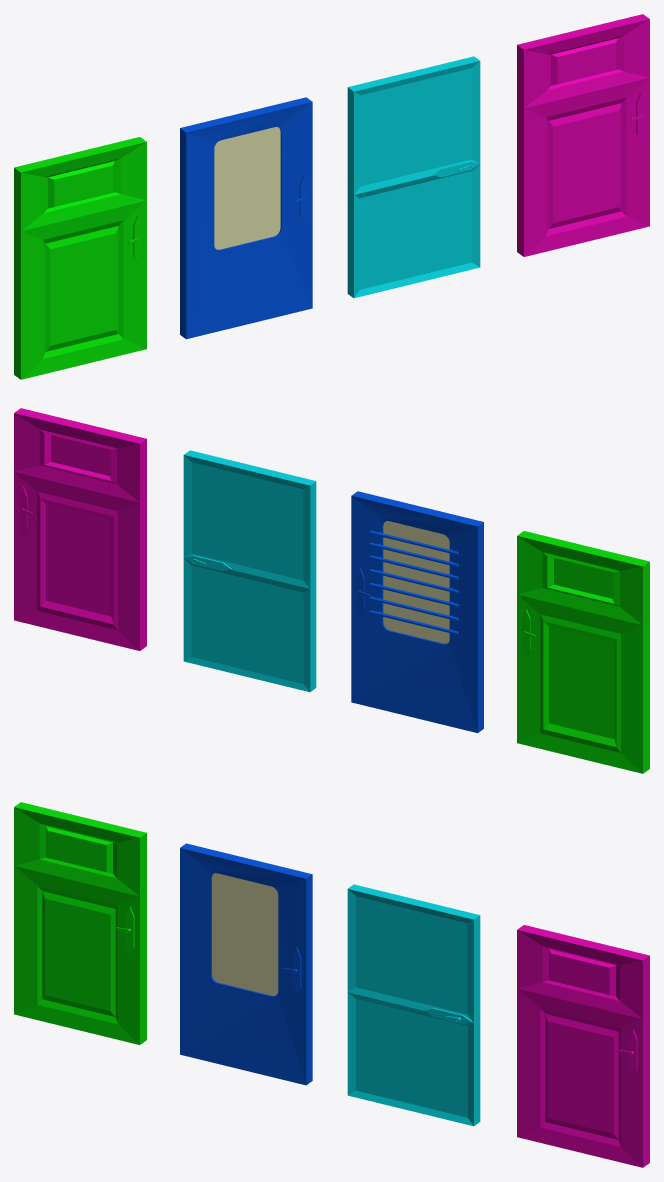
Rendered from vrati.fbx.
3 views of the same model, one above another, from view 1: azimuth 30°, elevation 25°; view 2: azimuth 150°, elevation 25°; view 3: azimuth 330°, elevation 25° (orthographic).
Parts seen in each view (by area): view 1: vrata_normal (×2), vrata, pCube59, stuklo; view 2: vrata_normal (×2), vrata, pCube59, stuklo; view 3: vrata_normal (×2), vrata, pCube59, stuklo.
Part boxes in pixels (<box>): vrata_normal (×2): <box>14,14,649,379</box>; vrata: <box>347,56,480,298</box>; pCube59: <box>180,97,312,339</box>; stuklo: <box>214,127,280,249</box>; vrata_normal (×2): <box>14,408,649,773</box>; vrata: <box>183,450,316,692</box>; pCube59: <box>351,491,483,733</box>; stuklo: <box>383,521,449,643</box>; vrata_normal (×2): <box>14,802,649,1167</box>; vrata: <box>347,884,480,1126</box>; pCube59: <box>180,843,312,1085</box>; stuklo: <box>212,873,278,995</box>.
Bounding box in the file's own units: 750 × 236 × 25.86.
